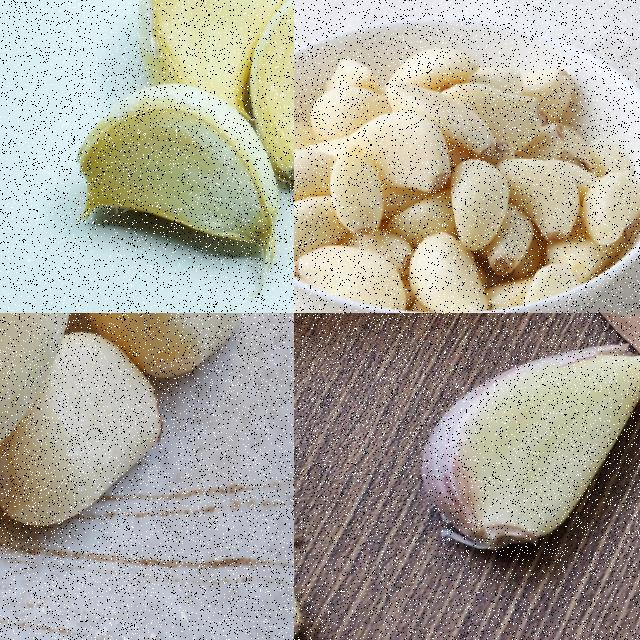garlic: (294, 49, 639, 312), (0, 313, 250, 569), (430, 346, 639, 559), (71, 76, 293, 249), (144, 0, 293, 139), (249, 0, 293, 213), (557, 313, 639, 409)
